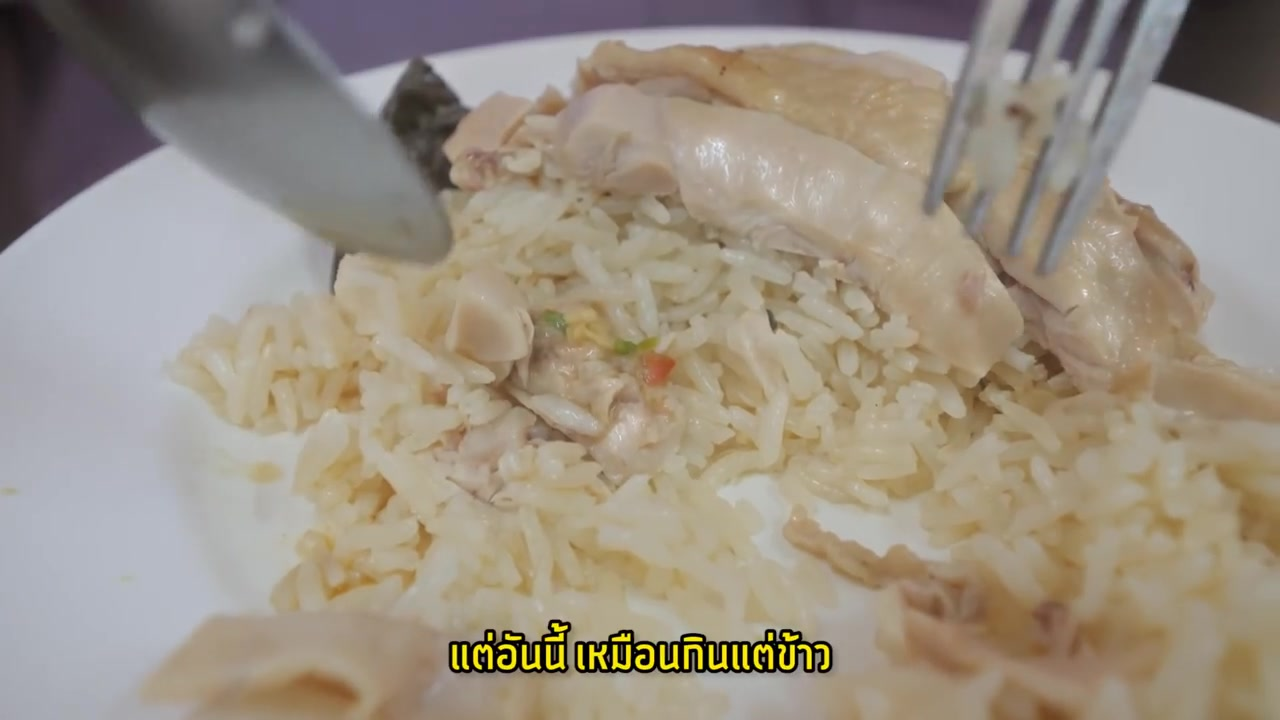text-label: (446, 616, 836, 680)
